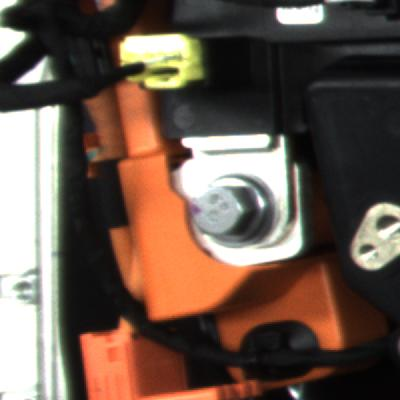nut_b: (179, 164, 281, 253)
